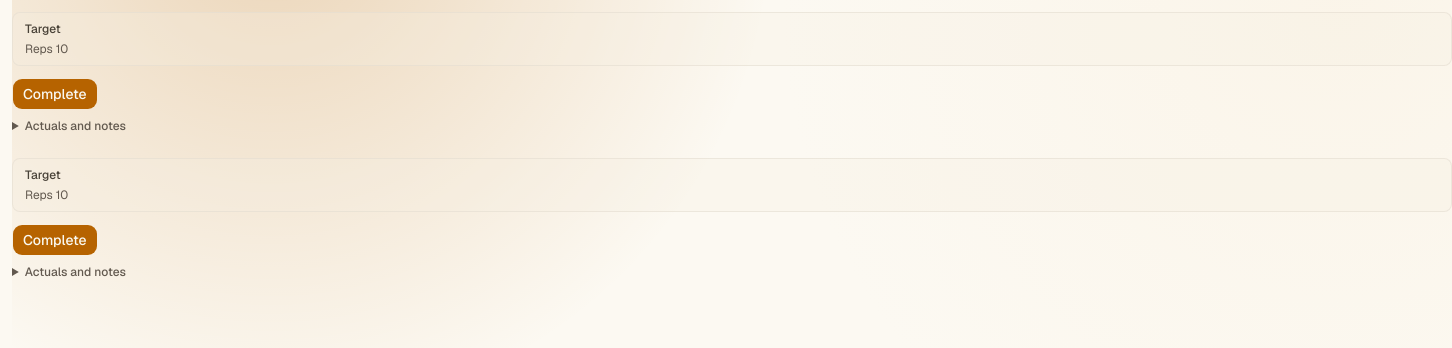
AthleteWorkoutResultFields › toggles completion for one exercise without affecting the others
Click the 1st button "Complete".
click(55, 94)  # box [12,78,98,110]
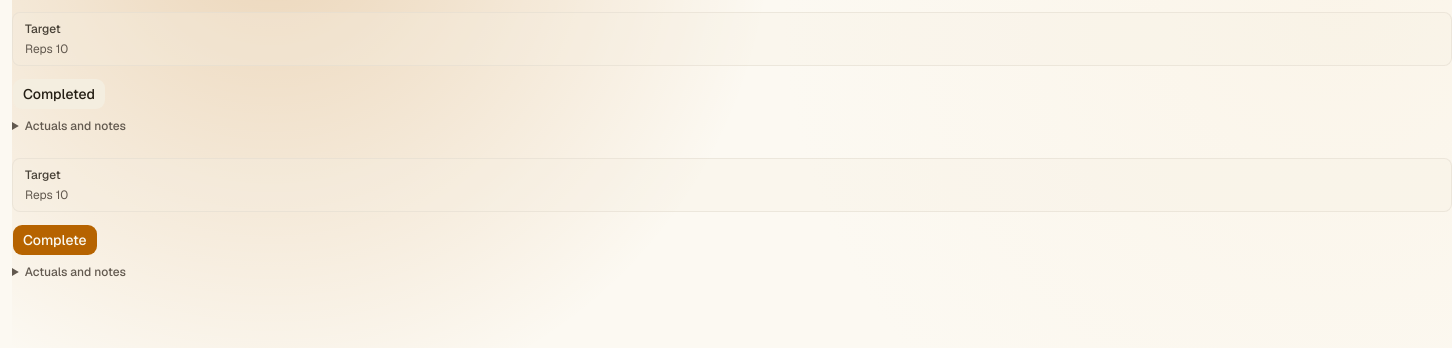
Expected: the button "Complete" is shown, [12,224,98,256]
Result: the button "Completed" is shown at [12,78,106,110]
